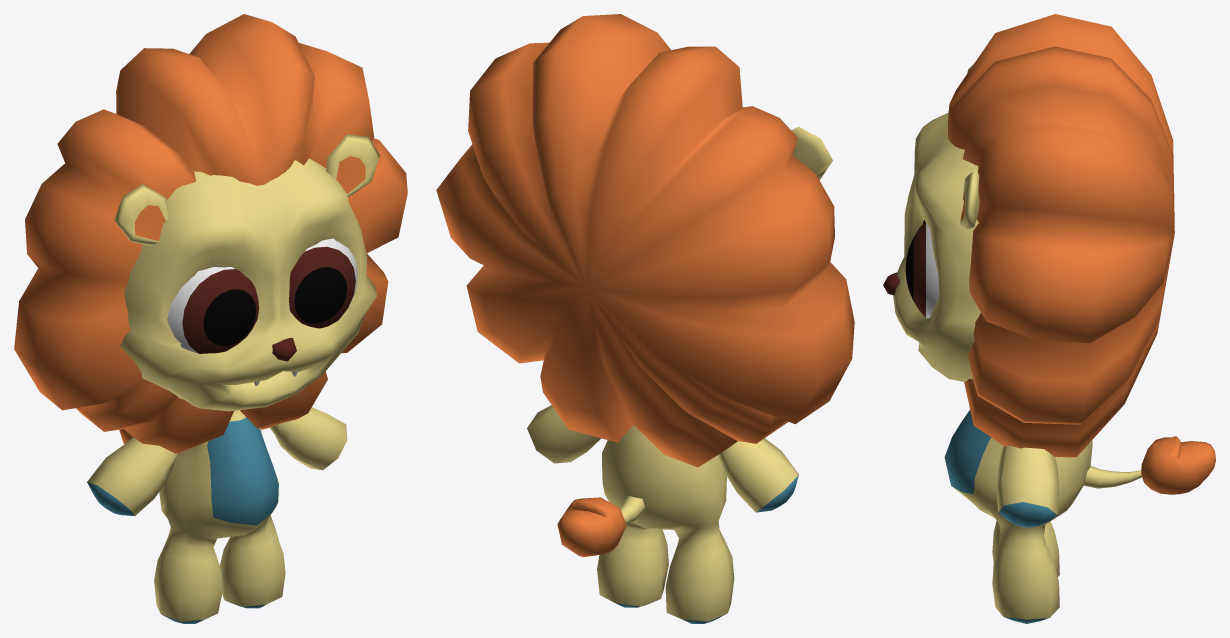
File: UV Mapped Lion.fbx
3 views of the same model, side by side, from view 1: azimuth 30°, elevation 25°; view 2: azimuth 150°, elevation 25°; view 3: azimuth 270°, elevation 25° (orthographic). The views are drawn at different scales.
Visible parts, largest first — view 1: pCylinder1, polySurface7, polySurface17, polySurface12, polySurface16; view 2: pCylinder1, polySurface7, polySurface14, polySurface16; view 3: pCylinder1, polySurface7, polySurface14, polySurface12, polySurface16.
Part boxes in pixels (left/top/right/bottom): pCylinder1: left=14, top=14, right=407, bottom=453; polySurface7: left=87, top=158, right=376, bottom=623; polySurface17: left=167, top=267, right=258, bottom=353; polySurface12: left=289, top=238, right=357, bottom=328; polySurface16: left=114, top=134, right=379, bottom=245; pCylinder1: left=436, top=14, right=854, bottom=467; polySurface7: left=527, top=405, right=798, bottom=623; polySurface14: left=557, top=495, right=644, bottom=557; polySurface16: left=791, top=126, right=832, bottom=180; pCylinder1: left=948, top=14, right=1174, bottom=457; polySurface7: left=893, top=112, right=1092, bottom=623; polySurface14: left=1083, top=436, right=1215, bottom=494; polySurface12: left=905, top=221, right=938, bottom=318; polySurface16: left=960, top=64, right=979, bottom=229.
Bounding box in the file's own units: 6.37 × 9.23 × 4.79.
